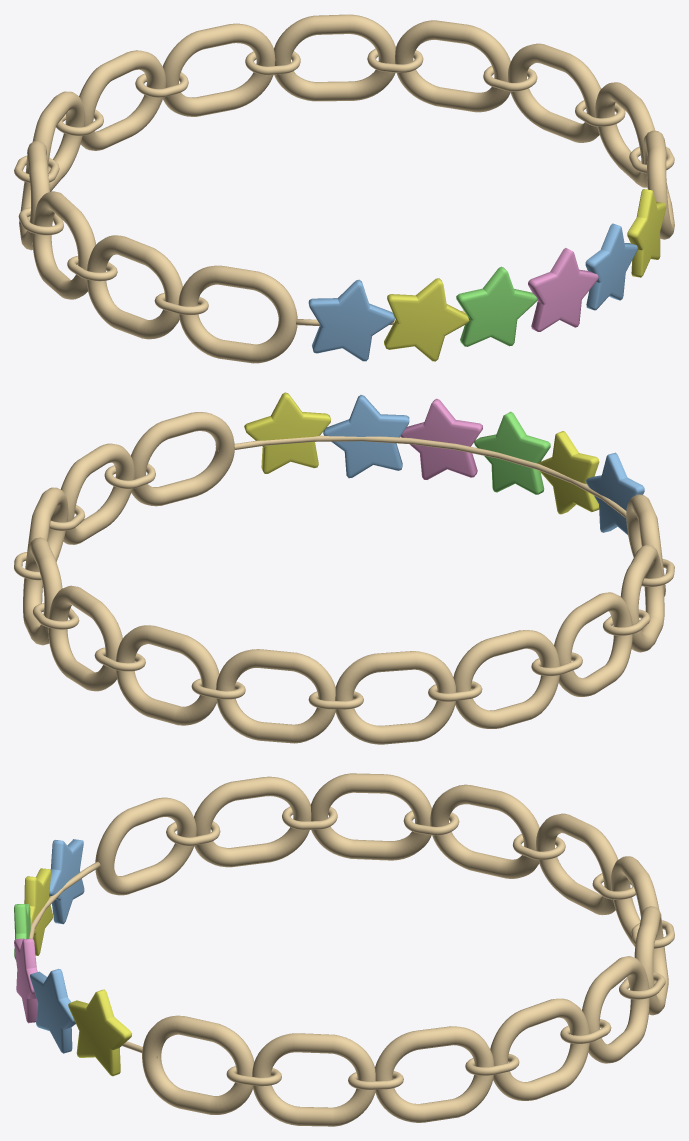
The picture shows the model from 3 angles, top to bottom: view 1: azimuth 30°, elevation 25°; view 2: azimuth 150°, elevation 25°; view 3: azimuth 270°, elevation 25°; orthographic projection.
Parts seen in each view (by area): view 1: chain; view 2: chain; view 3: chain.
Part boxes in pixels (<box>): chain: <box>14,14,674,363</box>; chain: <box>14,392,674,744</box>; chain: <box>14,773,674,1126</box>.
Bounding box in the file's own units: 0.7084 × 0.1046 × 0.7028.
